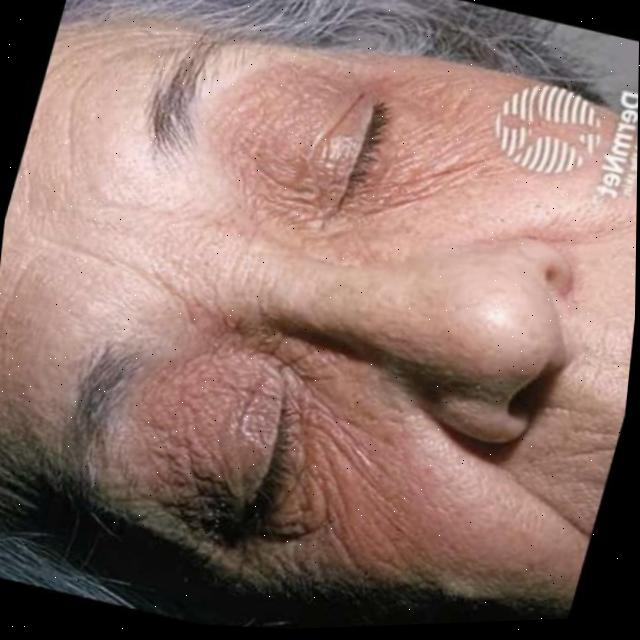Eczema: (138, 41, 493, 560)
